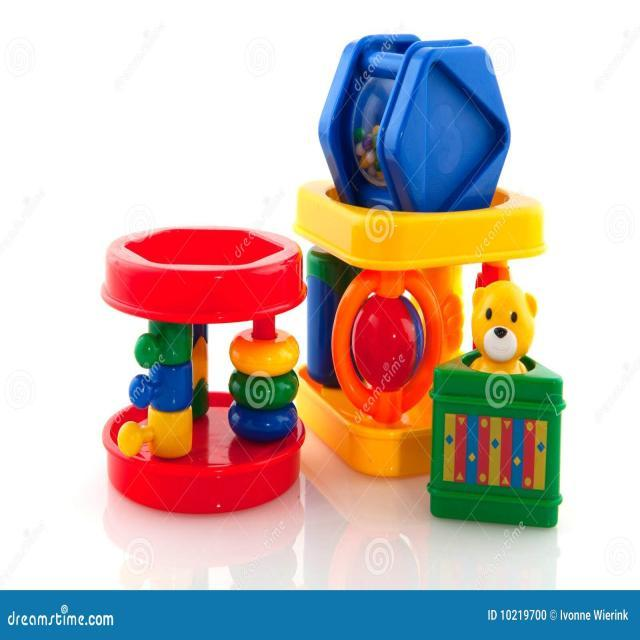hard-toy: (295, 37, 566, 527), (102, 228, 307, 514)
